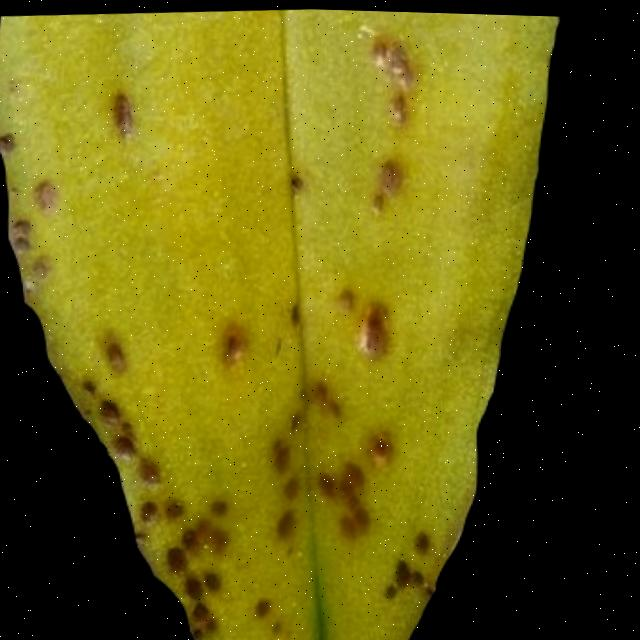mite: (197, 597, 227, 636), (227, 325, 253, 364), (110, 336, 134, 371), (282, 504, 306, 539), (173, 541, 197, 573), (120, 430, 146, 458), (401, 553, 423, 585), (105, 394, 129, 422), (212, 564, 234, 592), (146, 495, 168, 523), (215, 493, 239, 517), (171, 494, 193, 520), (421, 525, 441, 551), (261, 592, 281, 616)
spots: (0, 7, 576, 640)
